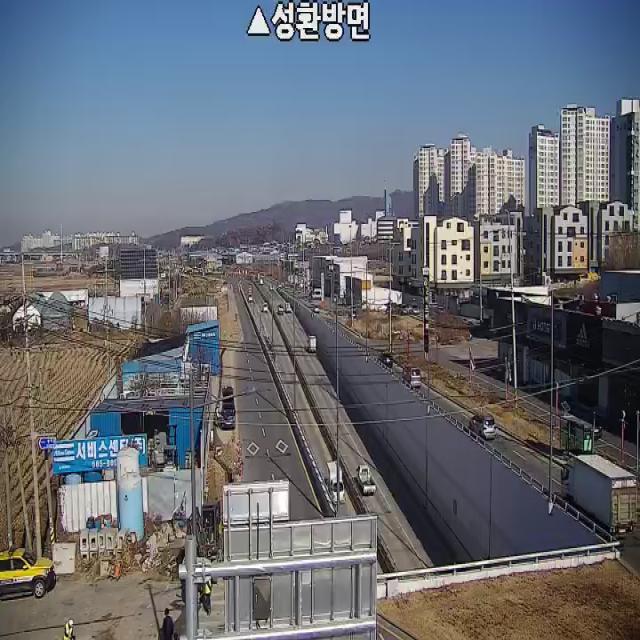Car: (0, 546, 55, 601), (572, 414, 602, 442), (469, 412, 496, 439), (402, 366, 422, 388), (378, 352, 393, 368), (312, 304, 320, 313), (262, 302, 268, 312), (248, 293, 252, 302)
Truck: (560, 453, 640, 536), (326, 462, 346, 504), (356, 463, 376, 495), (222, 385, 235, 429), (307, 336, 317, 352), (285, 302, 291, 312)
